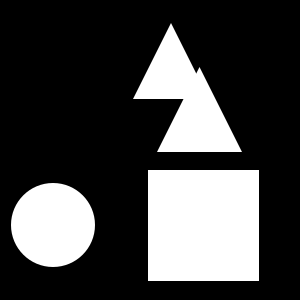circle: (148, 170, 259, 281)
rectangle: (11, 183, 95, 267)
triangle: (157, 67, 242, 152), (133, 23, 209, 99)
